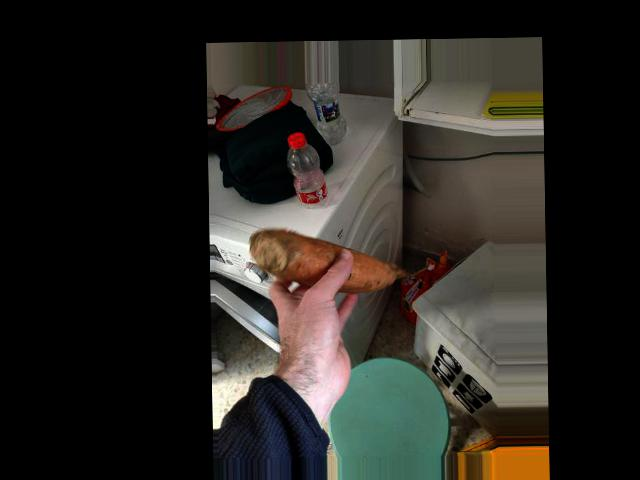sweet_potato: (251, 236, 411, 284)
